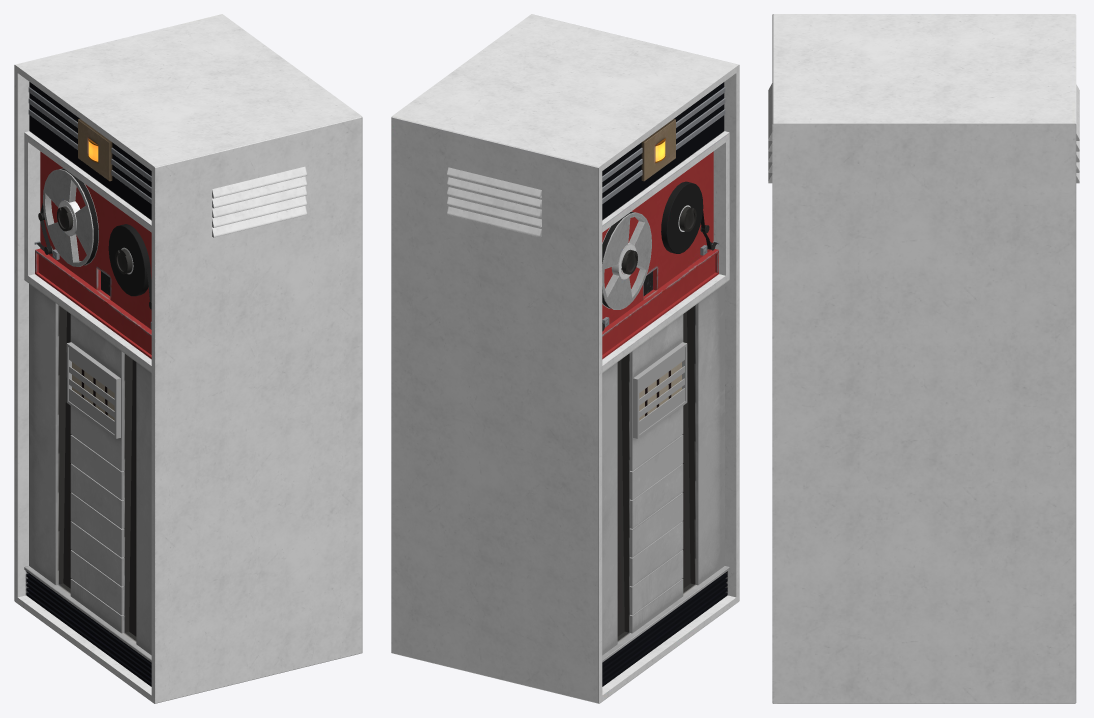
3 views of the same model, side by side, from view 1: azimuth 30°, elevation 25°; view 2: azimuth 150°, elevation 25°; view 3: azimuth 270°, elevation 25° (orthographic). The views are drawn at different scales.
Visible parts, largest first — view 1: Object_9; view 2: Object_9; view 3: Object_9.
Part boxes in pixels (x1,y1,x2,y2): Object_9: [14, 14, 362, 703]; Object_9: [391, 14, 739, 703]; Object_9: [768, 14, 1079, 703].
Size of the model in its own units: 2 by 4.94 by 2.4.
Materials: 1 (1 with a texture image).
